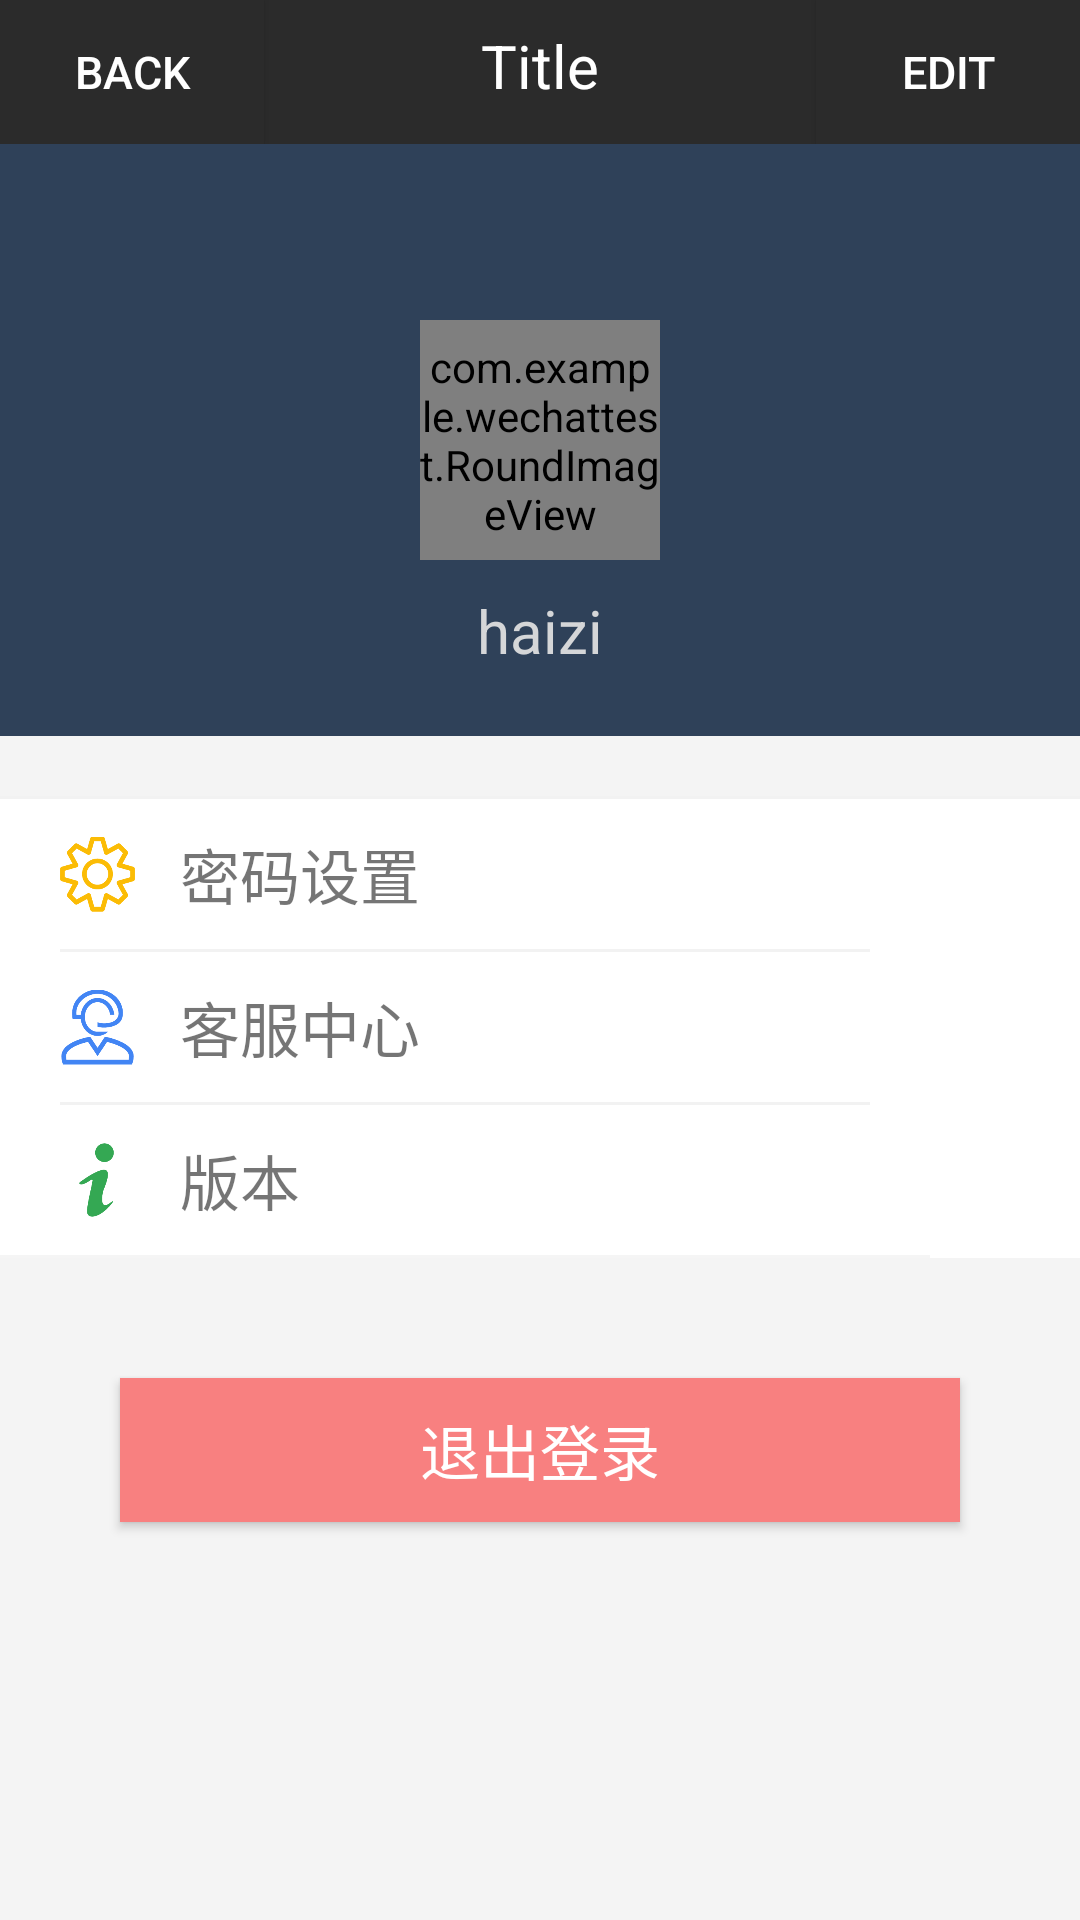

Icons on this 1080×1920 Android screen, each with its box as region(x1, y1, x2, y2):
setting: region(60, 837, 135, 912)
version: region(79, 1143, 114, 1217)
